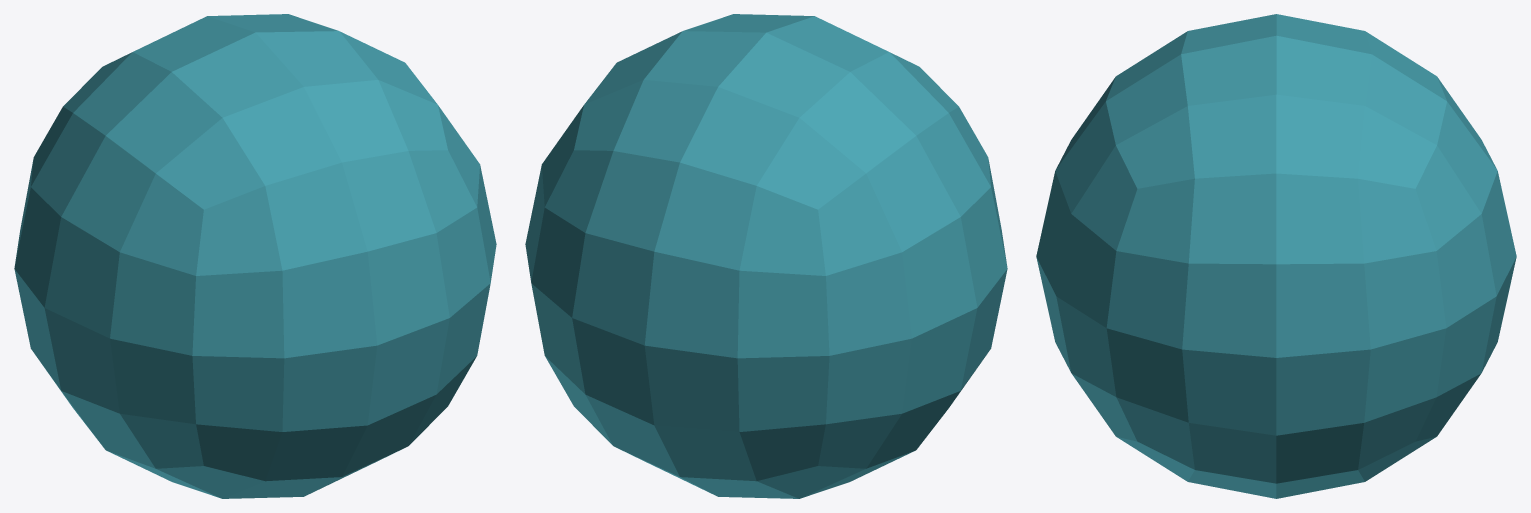
The model's file is SM_Env_Scale_Uranus_01.fbx.
3 renders of one model, left to right at view 1: azimuth 30°, elevation 25°; view 2: azimuth 150°, elevation 25°; view 3: azimuth 270°, elevation 25°, orthographic.
Visible parts, largest first — view 1: SM_Env_Scale_Uranus_01; view 2: SM_Env_Scale_Uranus_01; view 3: SM_Env_Scale_Uranus_01.
Part boxes in pixels (x1=…): SM_Env_Scale_Uranus_01: x1=14, y1=14, x2=496, y2=498; SM_Env_Scale_Uranus_01: x1=525, y1=14, x2=1007, y2=498; SM_Env_Scale_Uranus_01: x1=1036, y1=14, x2=1516, y2=498.
Size of the model in its own units: 14.04 by 14.24 by 14.04.
